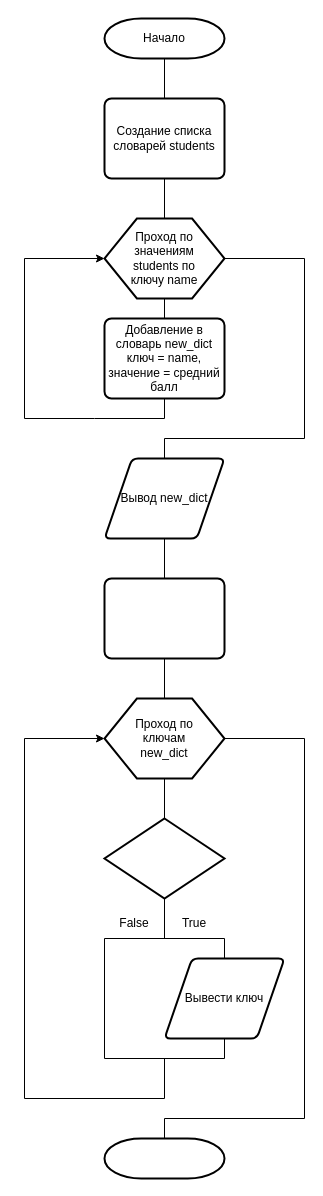
The diagram is 323 pixels wide and 1196 high, and some of its shapes have lost their labels. The shapes that lost their labels are listed below. From the top down, each one's box as (x1, y1, x2, y2) in pixels, then its label:
(103, 577, 225, 659): max_grade = максимальный из значений new_dict
(103, 817, 225, 899): new_dict[ключ] = max_grade
(103, 1137, 225, 1179): Конец
